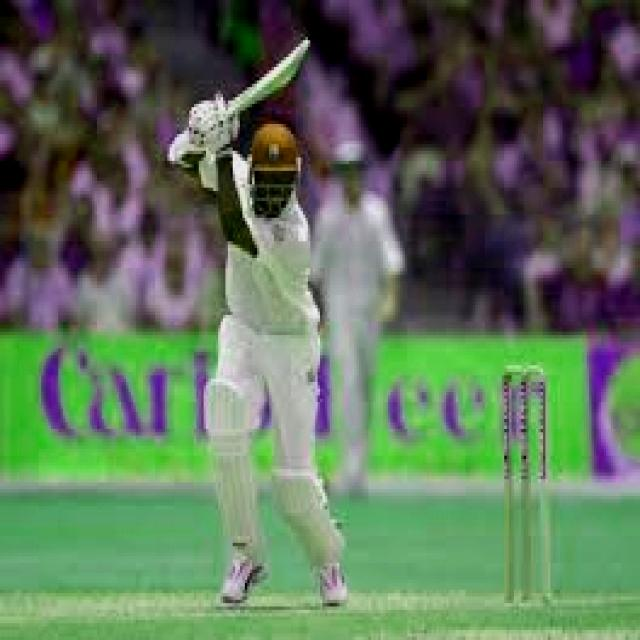toe: (270, 31, 320, 83)
